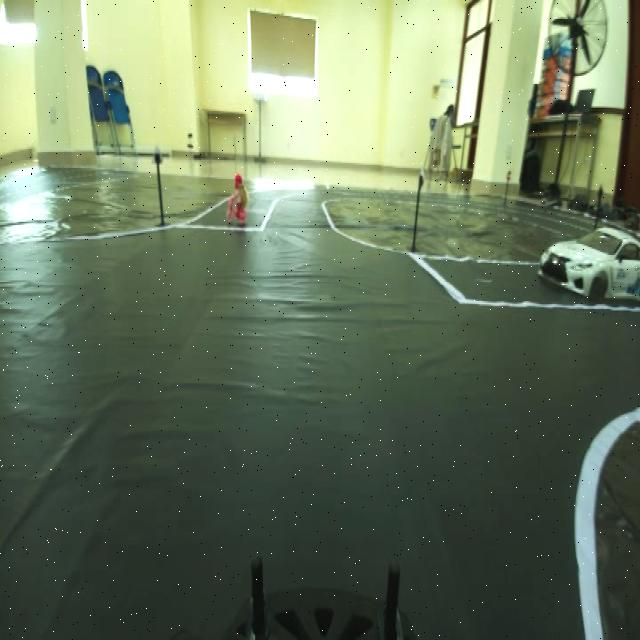car: (550, 210, 638, 305)
